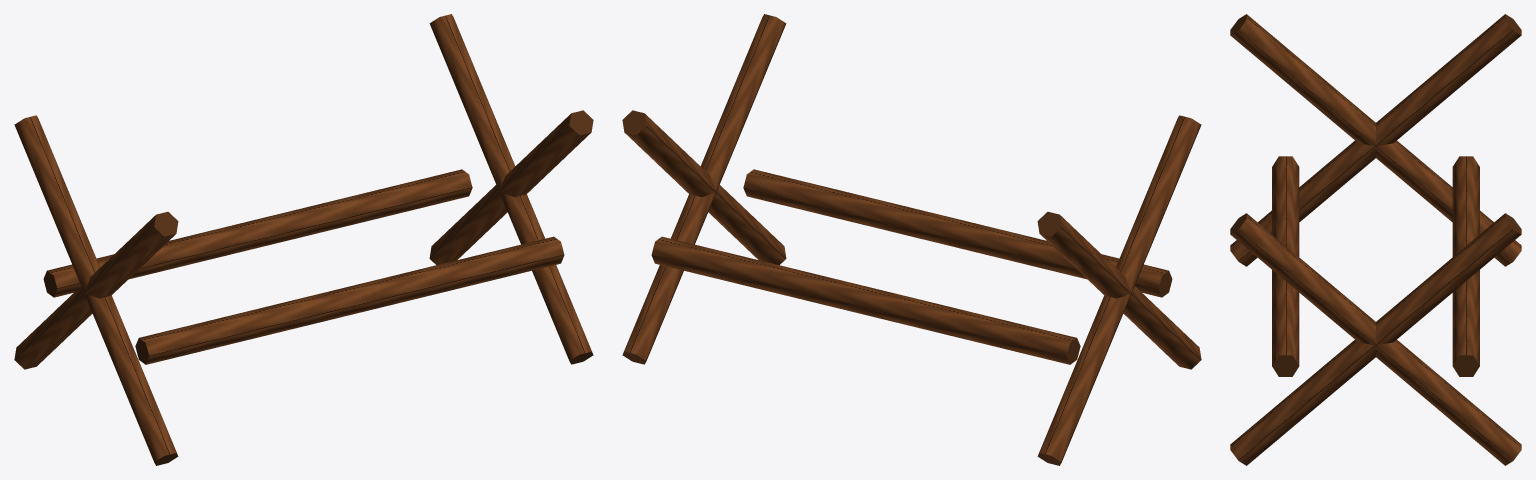
The model's file is wilderness-survival-camp-firewood-cradle-94ea4075__21954.glb.
3 views of the same model, side by side, from view 1: azimuth 30°, elevation 25°; view 2: azimuth 150°, elevation 25°; view 3: azimuth 270°, elevation 25° (orthographic).
Parts seen in each view (by area): view 1: firewood-cradle; view 2: firewood-cradle; view 3: firewood-cradle.
Part boxes in pixels (x1,y1,x2,y2): firewood-cradle: (14, 14, 593, 465); firewood-cradle: (622, 14, 1201, 465); firewood-cradle: (1230, 14, 1521, 465).
Size of the model in its own units: 1.27 by 0.6945 by 0.7413.
Materials: 1 (1 with a texture image).
